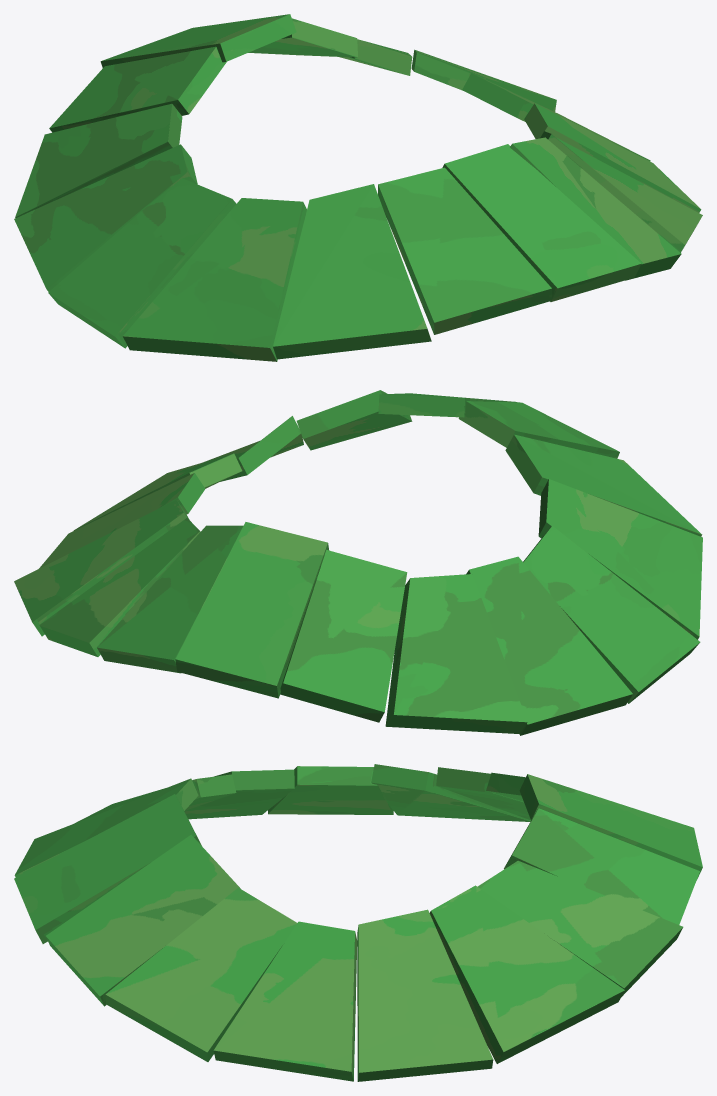
File: tower roof.fbx
3 views of the same model, one above another, from view 1: azimuth 30°, elevation 25°; view 2: azimuth 150°, elevation 25°; view 3: azimuth 270°, elevation 25° (orthographic). The views are drawn at different scales.
Parts seen in each view (by area): view 1: tower roof_UV; view 2: tower roof_UV; view 3: tower roof_UV.
Part boxes in pixels (x1,y1,x2,y2): tower roof_UV: (14, 14, 702, 361); tower roof_UV: (14, 390, 702, 735); tower roof_UV: (14, 764, 702, 1081).
Bounding box in the file's own units: 1046 × 275 × 1092.
Materials: 1 (1 with a texture image).
